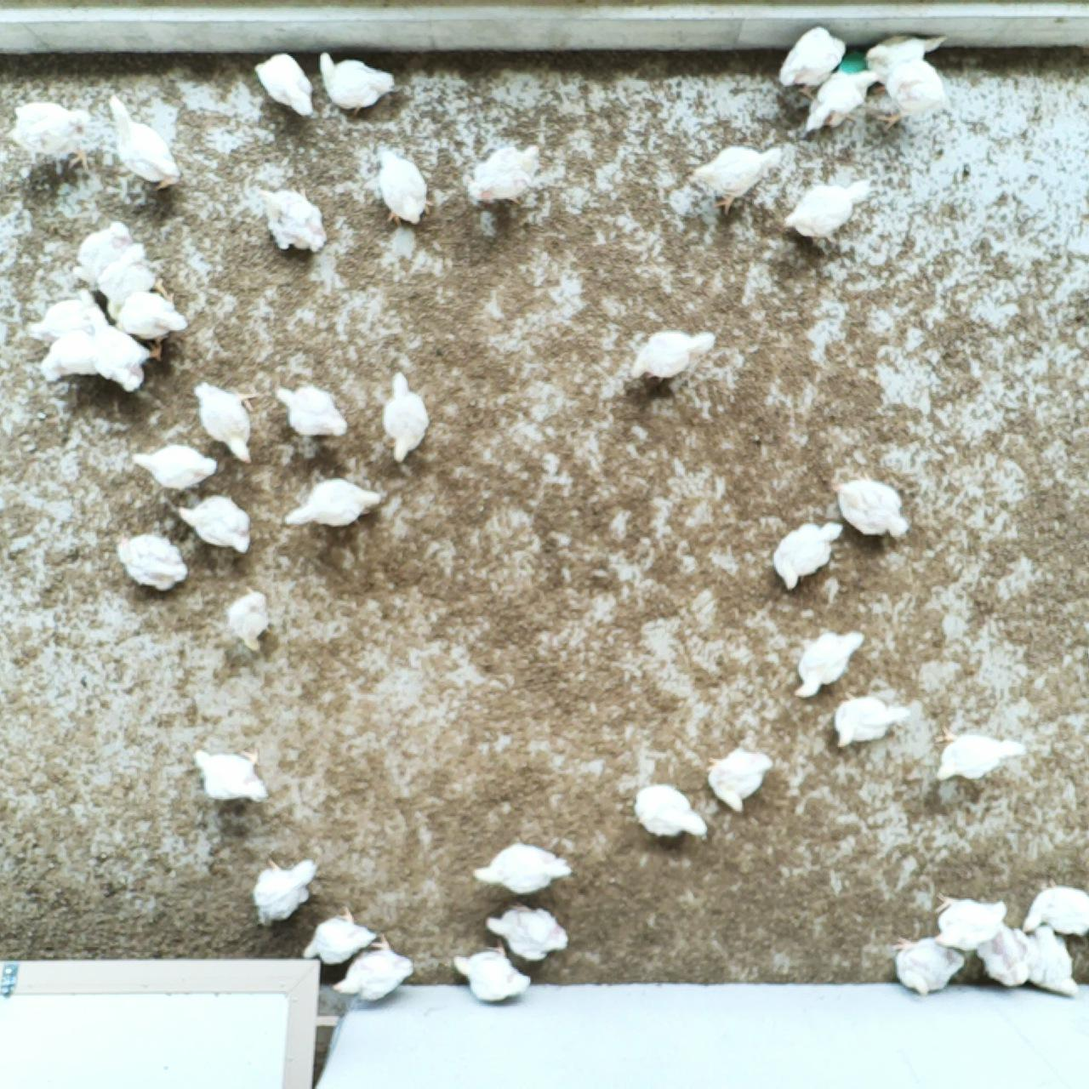chicken: (107, 96, 181, 192), (12, 99, 94, 171), (698, 144, 781, 215), (783, 179, 876, 242), (332, 932, 415, 999), (484, 900, 570, 964), (932, 726, 1026, 784), (829, 477, 911, 540), (285, 477, 385, 528), (321, 50, 398, 116), (793, 632, 867, 700), (471, 842, 569, 892), (801, 69, 875, 135), (1019, 927, 1083, 1003), (196, 381, 255, 463), (875, 66, 950, 130), (773, 520, 843, 588), (258, 186, 328, 254), (467, 144, 541, 205), (832, 693, 912, 749), (191, 744, 269, 801), (706, 751, 776, 814), (630, 331, 716, 382), (177, 495, 254, 551), (30, 296, 114, 347), (117, 529, 188, 589), (631, 781, 708, 836), (891, 938, 962, 997), (454, 950, 532, 1003), (377, 147, 428, 228), (781, 28, 845, 91), (254, 856, 316, 921), (131, 445, 216, 492), (304, 907, 375, 963), (382, 372, 425, 463), (864, 33, 949, 79), (255, 52, 315, 116), (934, 896, 1005, 949), (102, 244, 158, 309), (118, 287, 188, 339), (280, 386, 349, 437), (1023, 886, 1089, 938), (82, 219, 135, 282), (97, 326, 147, 390), (41, 332, 99, 382), (981, 924, 1026, 985), (228, 588, 266, 650)
